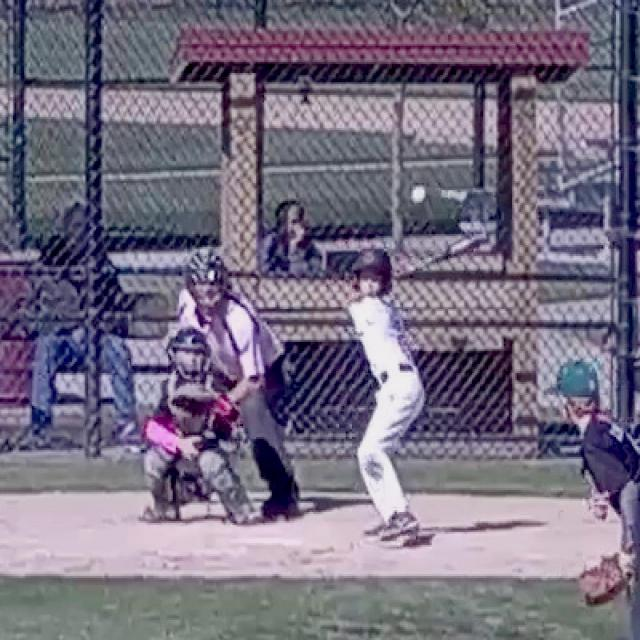baseball: (411, 187, 425, 203)
